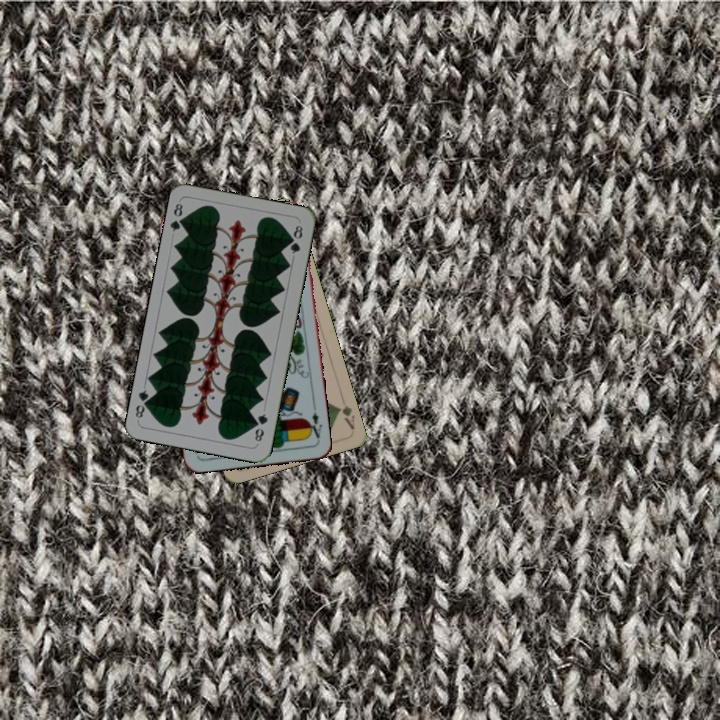EA: (304, 403, 324, 443)
G8: (166, 199, 189, 234), (251, 409, 270, 444)
GA: (333, 401, 357, 432)
